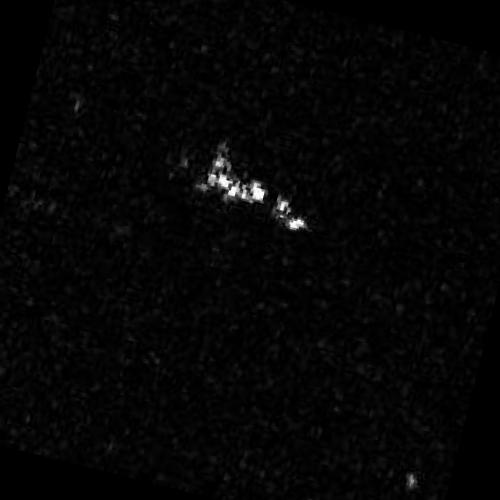ship: (201, 160, 305, 231)
